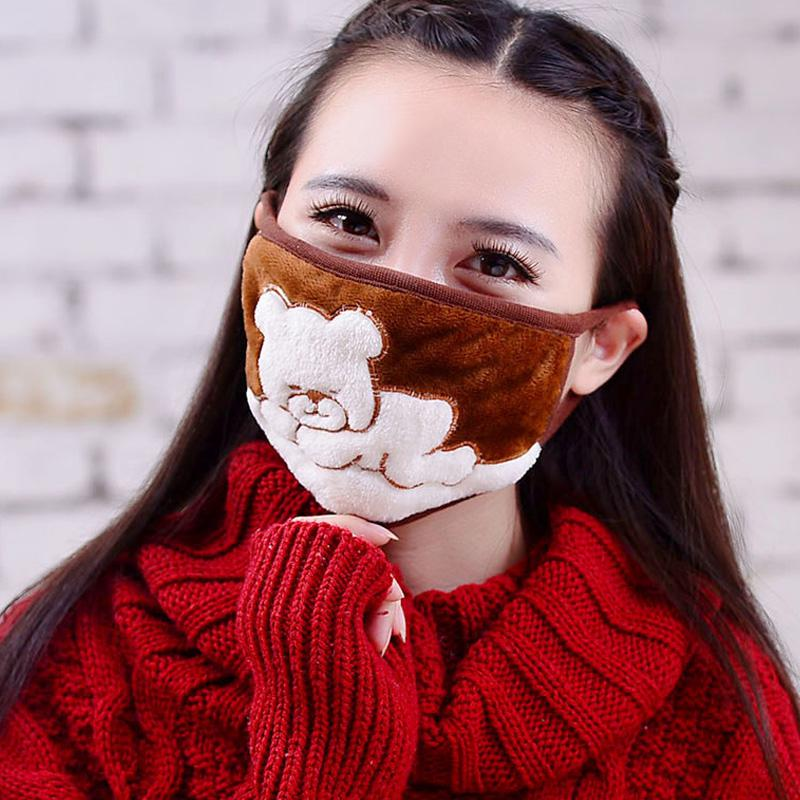OK: (251, 168, 597, 514)
